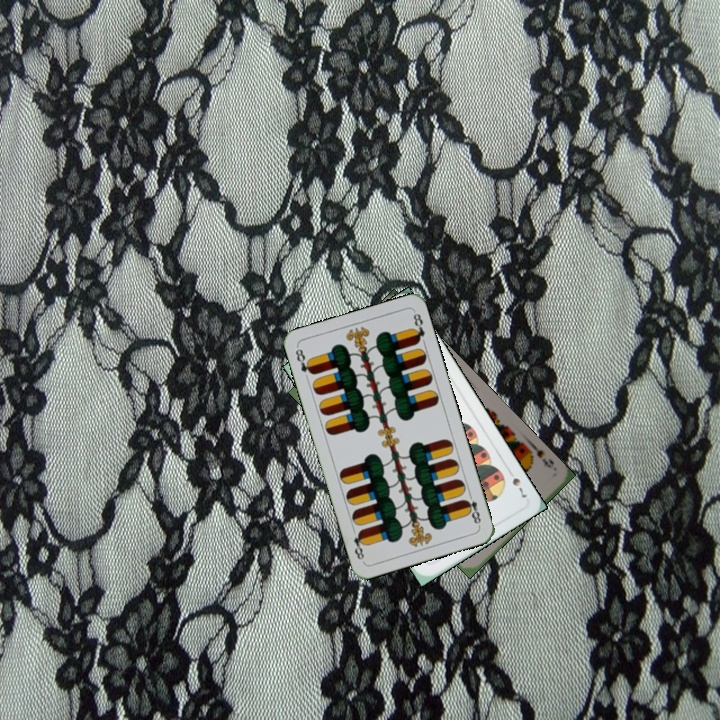E8: (460, 488, 483, 528), (291, 344, 316, 377)
S7: (508, 473, 530, 500)
S9: (522, 439, 559, 472)
